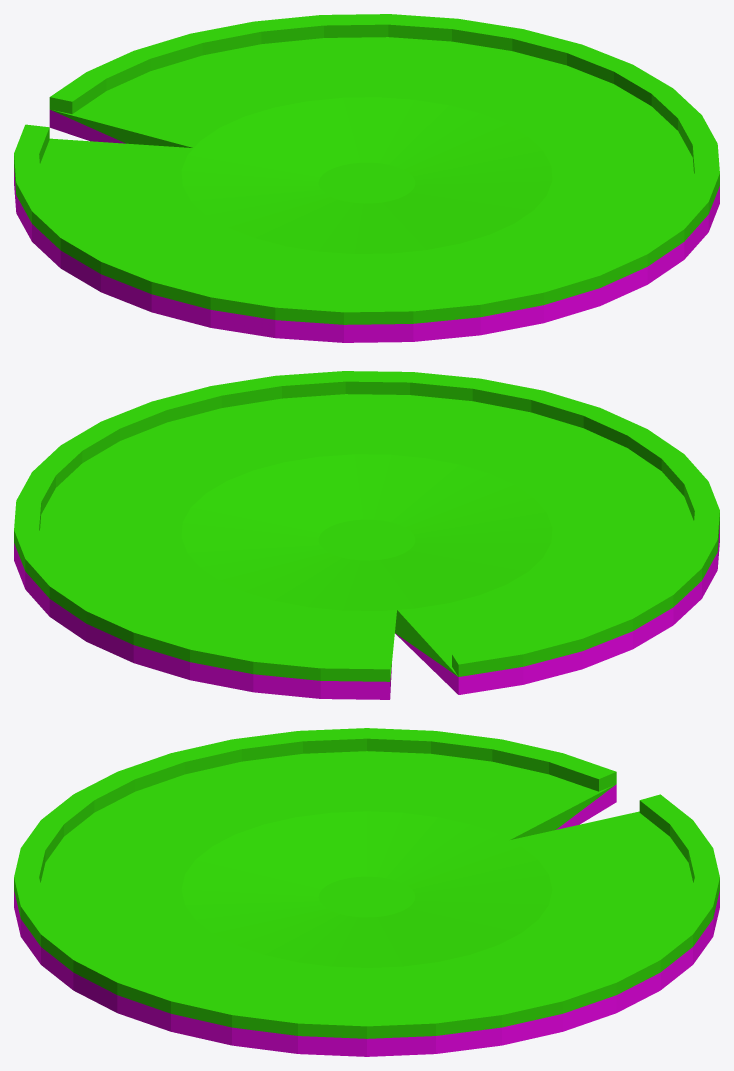
Rendered from waterlily.glb.
The picture shows the model from 3 angles, top to bottom: view 1: azimuth 30°, elevation 25°; view 2: azimuth 150°, elevation 25°; view 3: azimuth 270°, elevation 25°; orthographic projection.
Parts seen in each view (by area): view 1: waterlily; view 2: waterlily; view 3: waterlily.
Boxes of the visible parts, left/top/right/bottom form: waterlily: left=14, top=14, right=719, bottom=342; waterlily: left=14, top=371, right=719, bottom=699; waterlily: left=14, top=728, right=719, bottom=1056.
Size of the model in its own units: 5.95 by 1.51 by 5.95.
